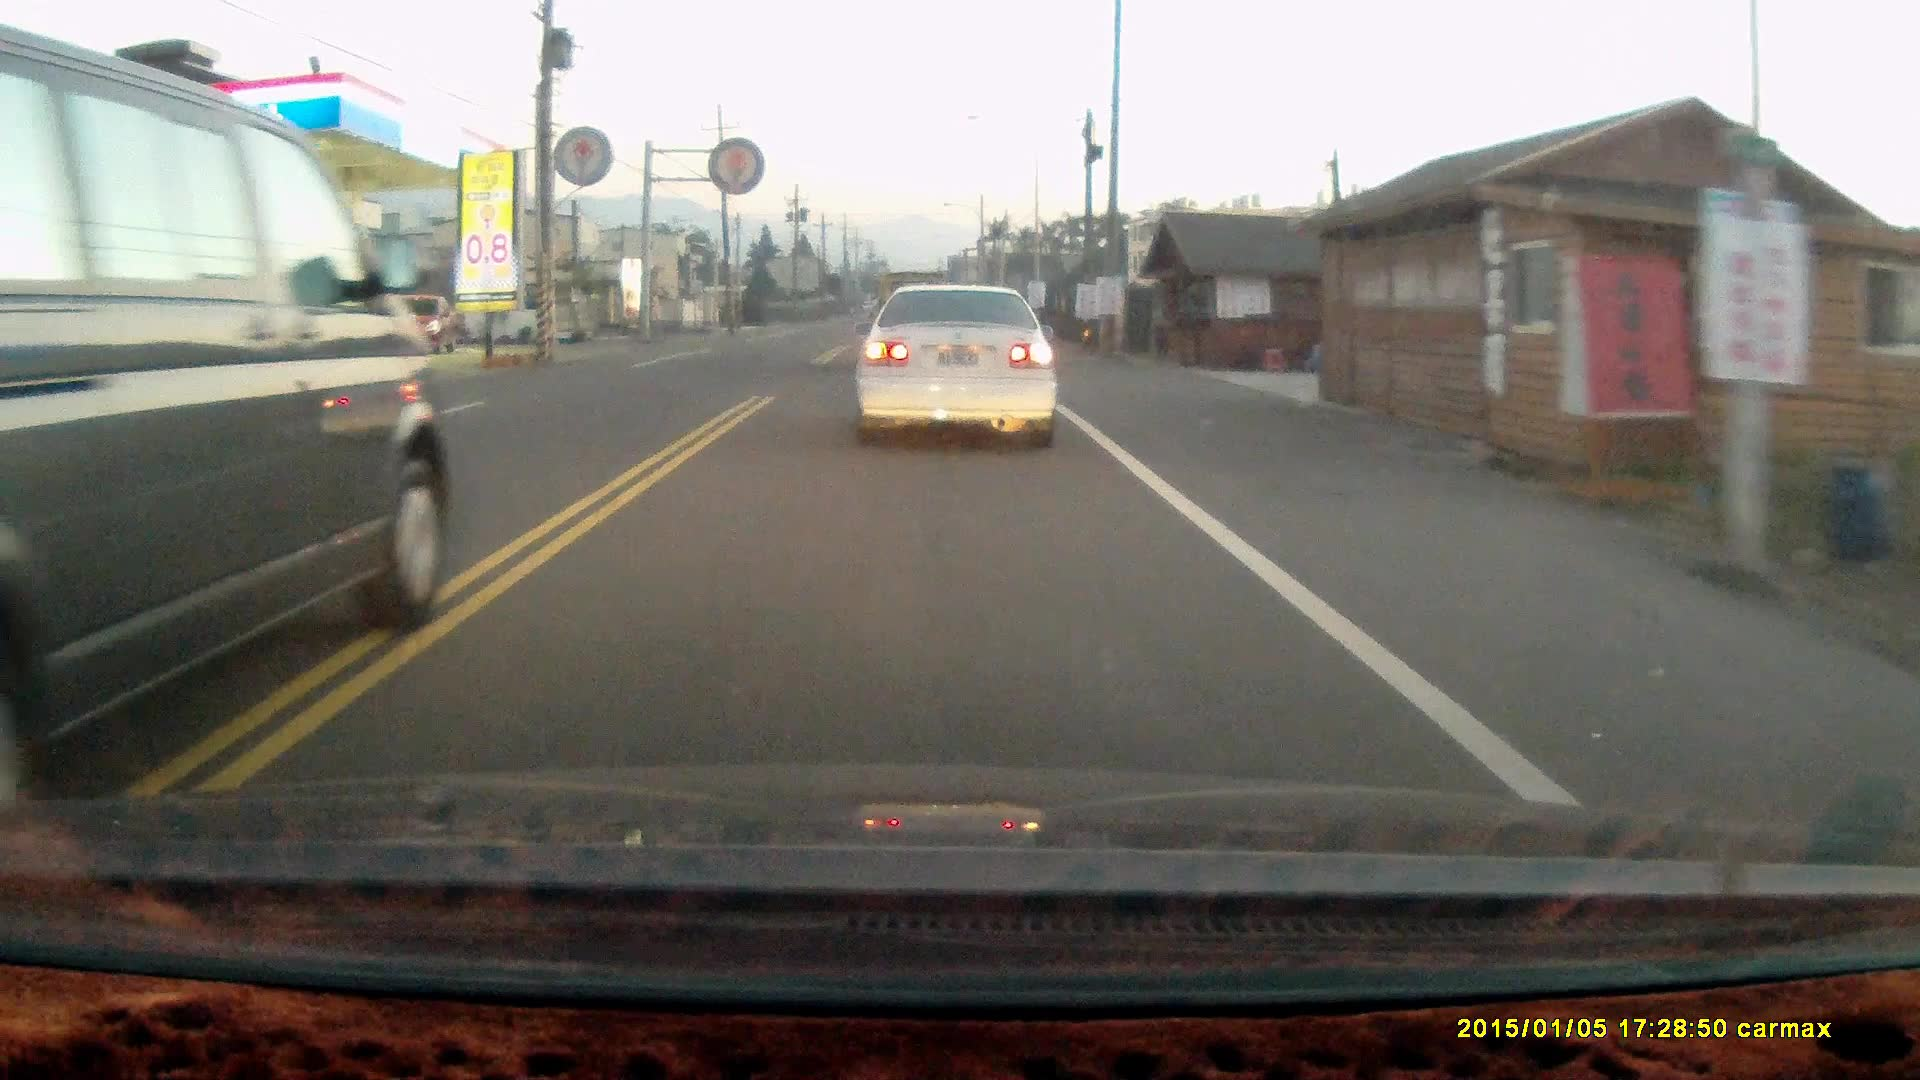vehicle: (1, 26, 448, 798), (851, 280, 1063, 458)
